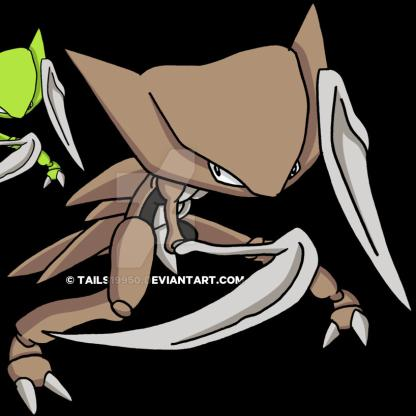Kabutops: (32, 26, 405, 415)
